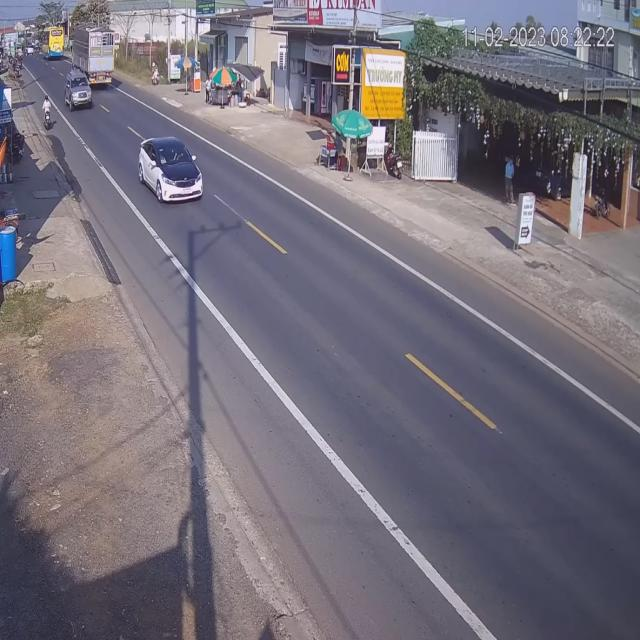bus: (42, 24, 64, 60)
car: (138, 135, 204, 204), (66, 66, 94, 109)
motorbike: (42, 94, 53, 128)
truck: (70, 26, 116, 86)
